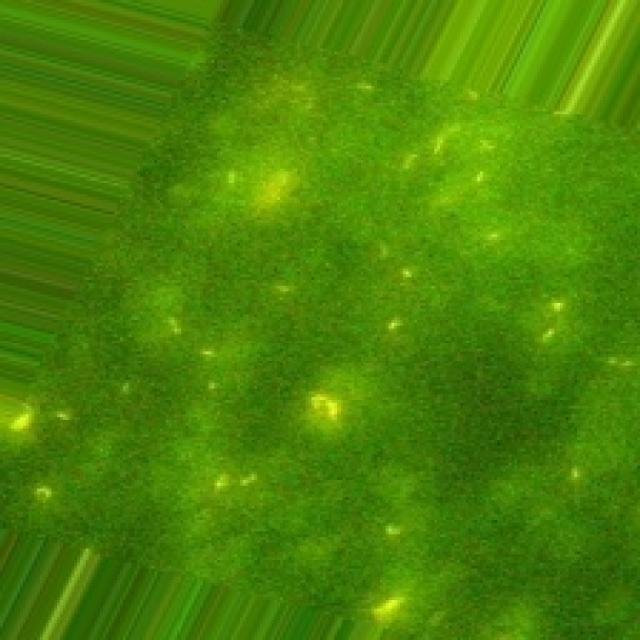Rod_bacteria: (0, 23, 637, 637)
